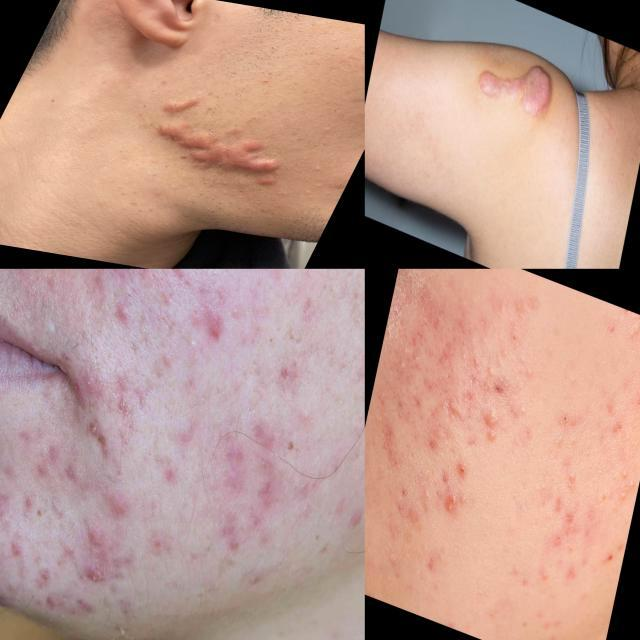Pimples: (133, 118, 303, 189), (473, 42, 560, 134), (60, 518, 128, 626), (103, 294, 146, 340), (610, 458, 640, 516), (0, 268, 51, 300), (155, 92, 205, 119), (82, 412, 111, 456), (438, 394, 470, 431), (78, 362, 102, 404), (438, 486, 462, 527), (475, 421, 502, 452)
